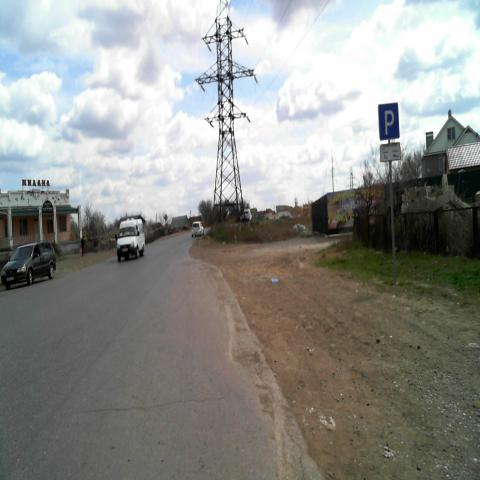6_4: (378, 101, 400, 142)
